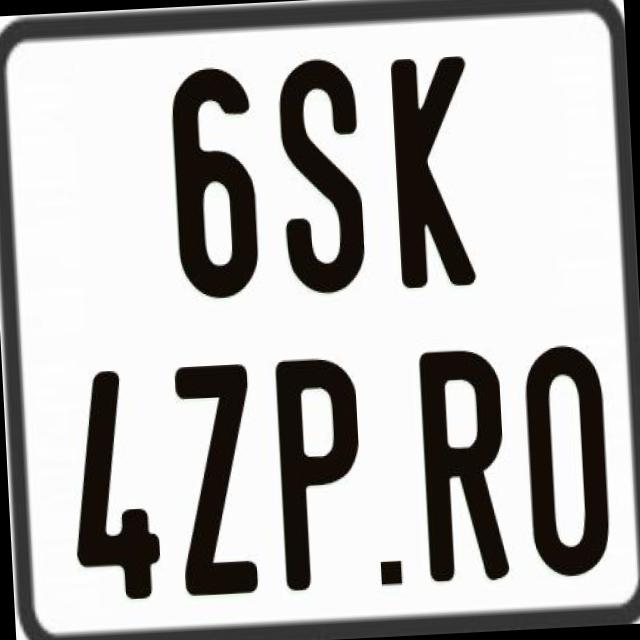0: (519, 341, 614, 583)
4: (65, 368, 165, 612)
6: (170, 65, 262, 298)
K: (389, 51, 483, 293)
P: (276, 356, 370, 598)
R: (415, 348, 513, 592)
S: (276, 52, 370, 299)
Z: (171, 358, 261, 594)
